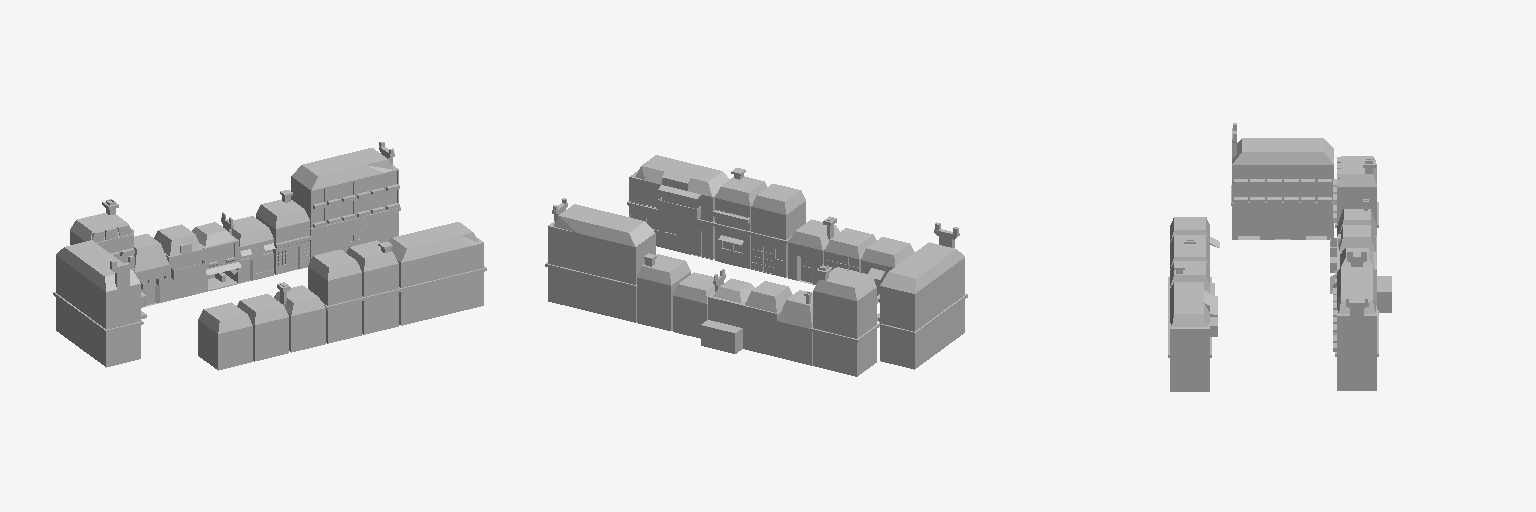
File: building_12_many.obj
The picture shows the model from 3 angles: view 1: azimuth 30°, elevation 25°; view 2: azimuth 150°, elevation 25°; view 3: azimuth 270°, elevation 25°; orthographic projection.
Parts seen in each view (by area): view 1: Cube3_copy6, Cube3_copy8, Cube3_copy16, Cube3_copy14, Cube3_copy15, Cube3_copy11, Cube3_copy5, Cube2, Cube4, Cube3_copy13, Cube3_copy12, Cube3_copy7 (+2 smaller); view 2: Cube3_copy6, Cube3_copy8, Cube3_copy16, Cube3_copy7, Cube3_copy14, Cube3_copy15, Cube3_copy5, Cube4, Cube2, Cube3, Cube3_copy13, Cube3_copy4 (+2 smaller); view 3: Cube3_copy8, Cube3_copy6, Cube3_copy16, Cube3_copy7, Cube4, Cube2, Cube3_copy15, Cube3_copy11, Cube3_copy14, Cube3.
Part boxes in pixels (left/top/right/bottom): Cube3_copy6: left=291, top=142, right=400, bottom=260; Cube3_copy8: left=53, top=240, right=146, bottom=367; Cube3_copy16: left=388, top=222, right=486, bottom=325; Cube3_copy14: left=308, top=249, right=363, bottom=343; Cube3_copy15: left=346, top=240, right=400, bottom=334; Cube3_copy11: left=198, top=302, right=252, bottom=370; Cube3_copy5: left=256, top=190, right=310, bottom=274; Cube2: left=154, top=224, right=205, bottom=300; Cube4: left=192, top=212, right=241, bottom=291; Cube3_copy13: left=274, top=282, right=325, bottom=352; Cube3_copy12: left=237, top=294, right=288, bottom=361; Cube3_copy7: left=70, top=199, right=135, bottom=273; Cube3_copy6: left=545, top=198, right=655, bottom=322; Cube3_copy8: left=877, top=222, right=967, bottom=369; Cube3_copy16: left=627, top=155, right=729, bottom=259; Cube3_copy7: left=810, top=264, right=879, bottom=376; Cube3_copy14: left=751, top=184, right=805, bottom=277; Cube3_copy15: left=713, top=168, right=766, bottom=268; Cube3_copy5: left=637, top=253, right=690, bottom=330; Cube4: left=701, top=269, right=754, bottom=353; Cube2: left=743, top=281, right=792, bottom=356; Cube3: left=777, top=290, right=812, bottom=365; Cube3_copy13: left=788, top=216, right=839, bottom=284; Cube3_copy4: left=673, top=272, right=714, bottom=338; Cube3_copy8: left=1231, top=123, right=1333, bottom=239; Cube3_copy6: left=1333, top=267, right=1378, bottom=390; Cube3_copy16: left=1168, top=282, right=1217, bottom=391; Cube3_copy7: left=1333, top=156, right=1378, bottom=227; Cube4: left=1330, top=248, right=1391, bottom=312; Cube2: left=1330, top=225, right=1376, bottom=272; Cube3_copy15: left=1168, top=261, right=1214, bottom=312; Cube3_copy11: left=1170, top=217, right=1219, bottom=247; Cube3_copy14: left=1168, top=244, right=1211, bottom=295; Cube3: left=1330, top=199, right=1376, bottom=246.
Bounding box in the file's own units: 2759 × 779 × 1524.